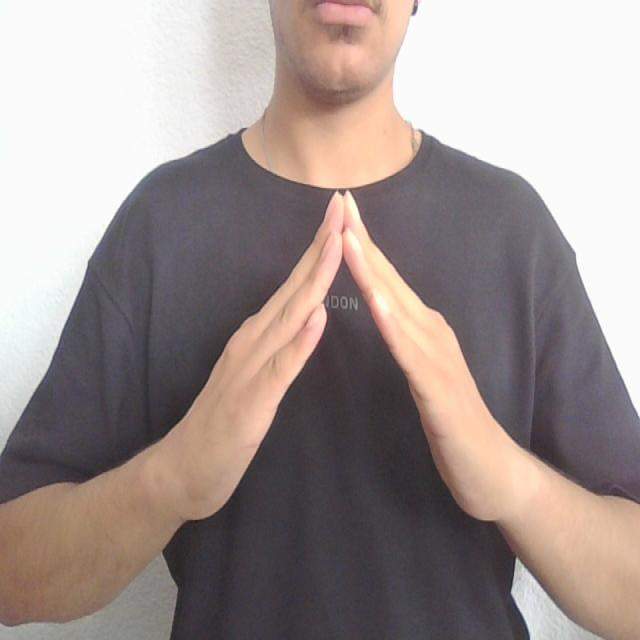Ev: (162, 186, 528, 526)
